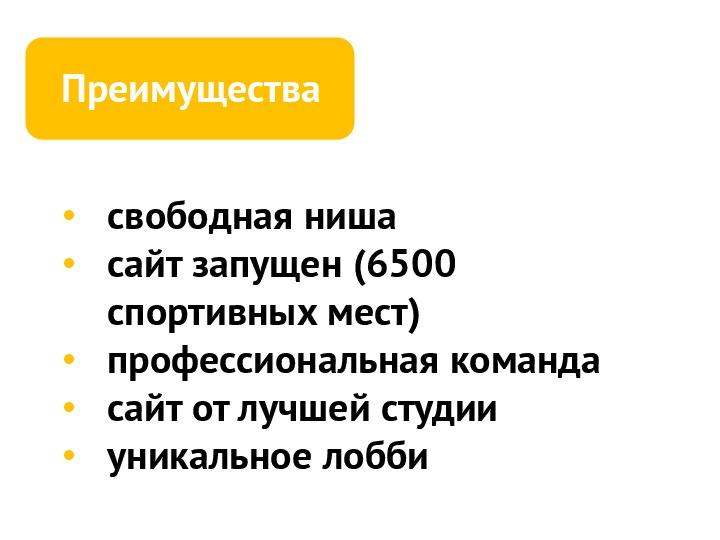paragraph: (45, 181, 631, 500)
title: (50, 61, 340, 116)
